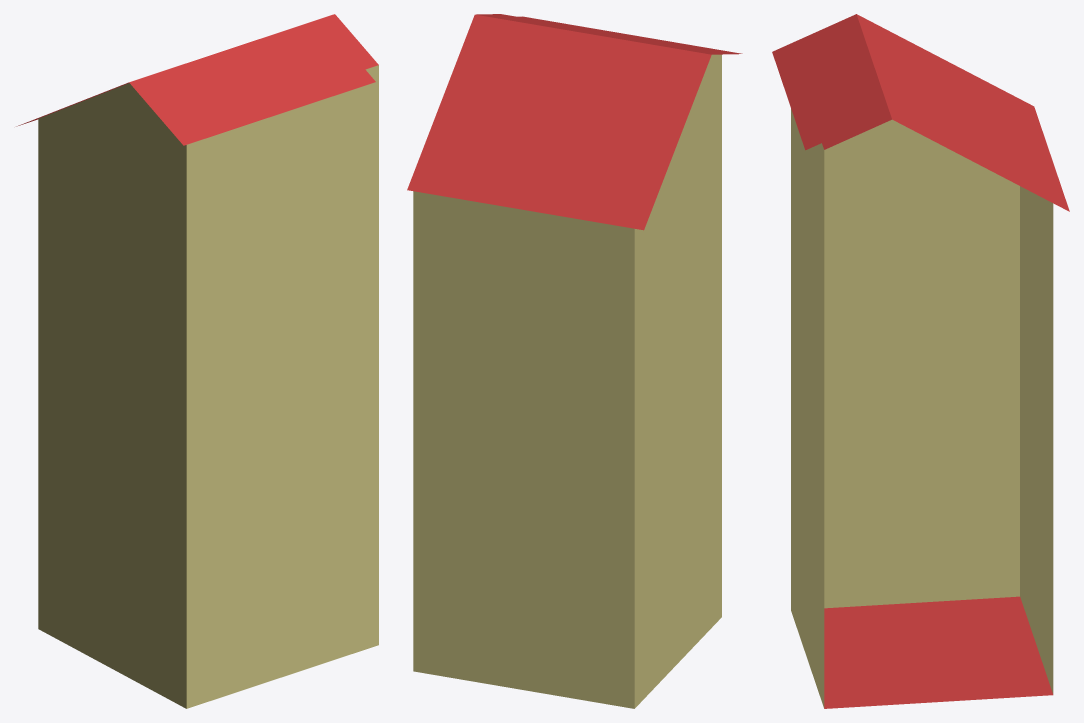
3 views of the same model, side by side, from view 1: azimuth 30°, elevation 25°; view 2: azimuth 150°, elevation 25°; view 3: azimuth 270°, elevation 25° (orthographic). The views are drawn at different scales.
Size of the model in its own units: 4.26 by 4.46 by 9.67.
